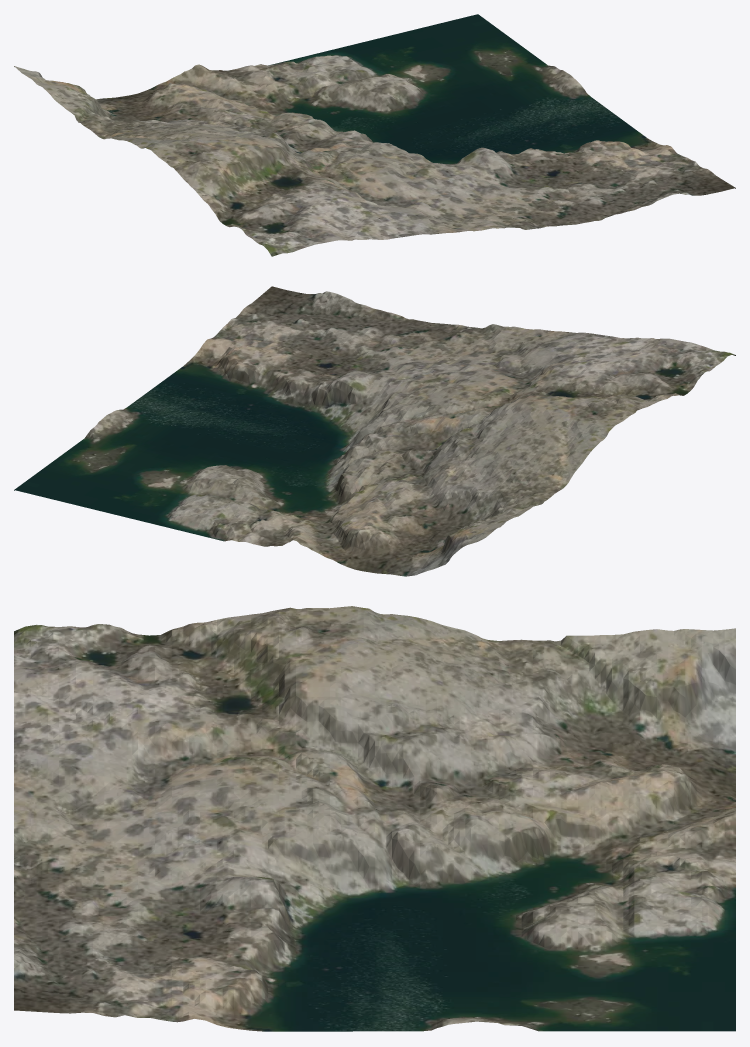
The picture shows the model from 3 angles, top to bottom: view 1: azimuth 30°, elevation 25°; view 2: azimuth 150°, elevation 25°; view 3: azimuth 270°, elevation 25°; orthographic projection. The views are drawn at different scales.
Bounding box in the file's own units: 500 × 83.36 × 481.
Materials: 1 (1 with a texture image).
